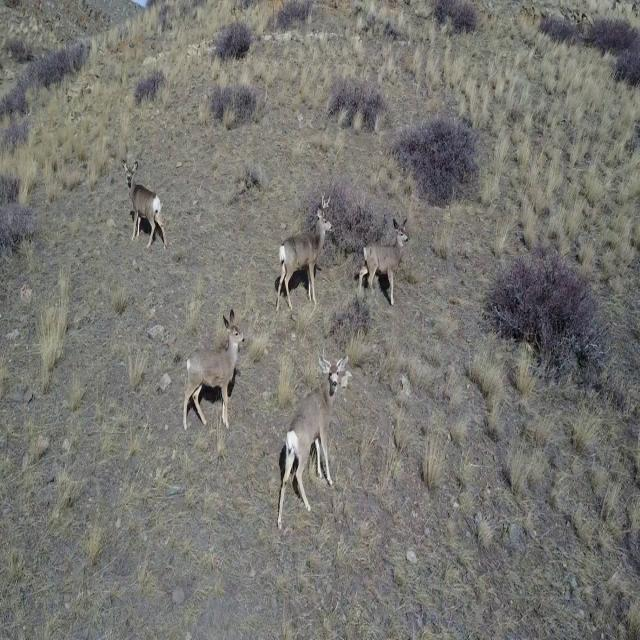Deer: (278, 342, 346, 530), (181, 308, 245, 430), (275, 189, 335, 311), (355, 214, 409, 308), (120, 154, 168, 246)
